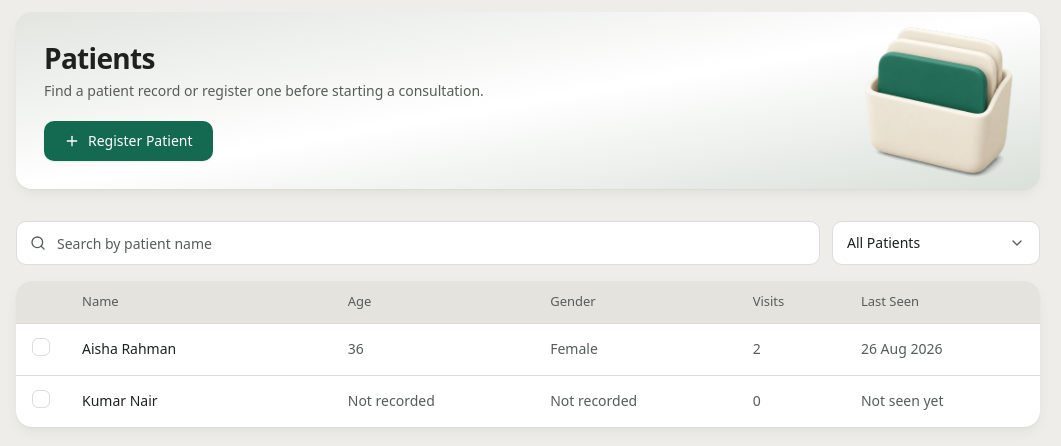
Test: PatientList › filters by whether a patient has visit history
This screenshot has width=1061, height=446.
Check: the link "Aisha Rahman" is shown, box [82,339,176,359]
Click the button named "filter by visit history": (936, 243) [832,221,1040,265]
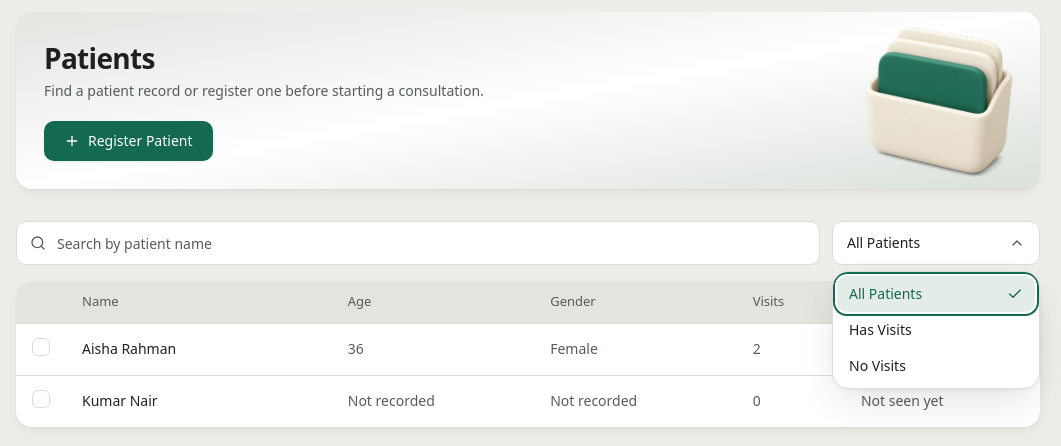
Click the option "No Visits": (877, 366) [849,356,906,375]
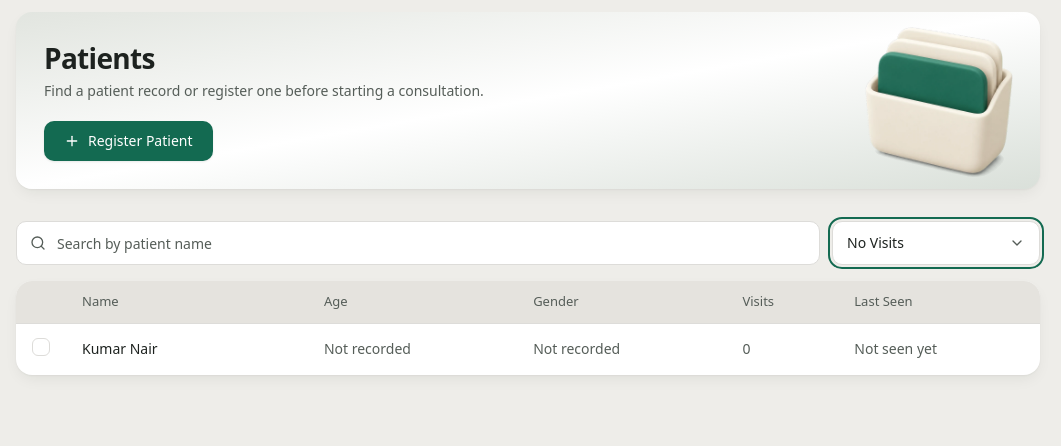
Check: the link "Kumar Nair" is shown, box [82,339,158,359]
Check: the link "Aisha Rahman" is gone
